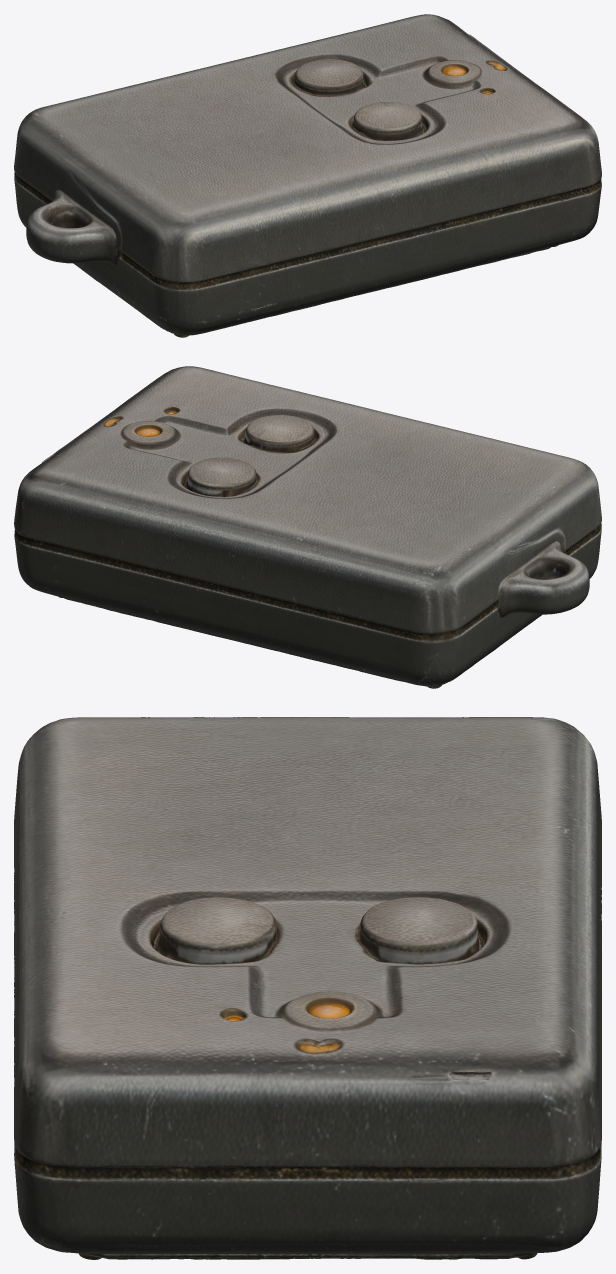
Rendered from TestRemote.glb.
The picture shows the model from 3 angles, top to bottom: view 1: azimuth 30°, elevation 25°; view 2: azimuth 150°, elevation 25°; view 3: azimuth 270°, elevation 25°; orthographic projection. The views are drawn at different scales.
Visible parts, largest first — view 1: texture_mapping; view 2: texture_mapping; view 3: texture_mapping.
Part boxes in pixels (bbox=[...]): texture_mapping: bbox=[14, 14, 601, 337]; texture_mapping: bbox=[14, 366, 601, 688]; texture_mapping: bbox=[14, 717, 601, 1259].
Bounding box in the file's own units: 0.9985 × 0.2619 × 0.5973.
Materials: 1 (1 with a texture image).
